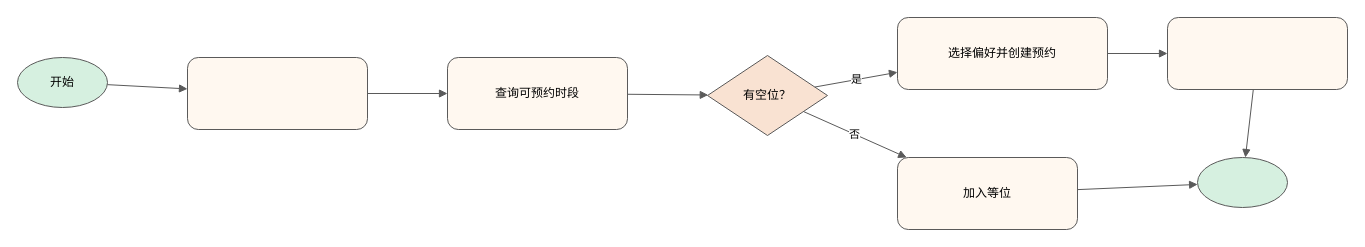
This 1365x247 diagram has some shape labels left out. Each missing label, with the centre of its shape:
结束: the point at 1242,182
触发推荐与通知: the point at 1257,53
选择门店与日期: the point at 277,93
